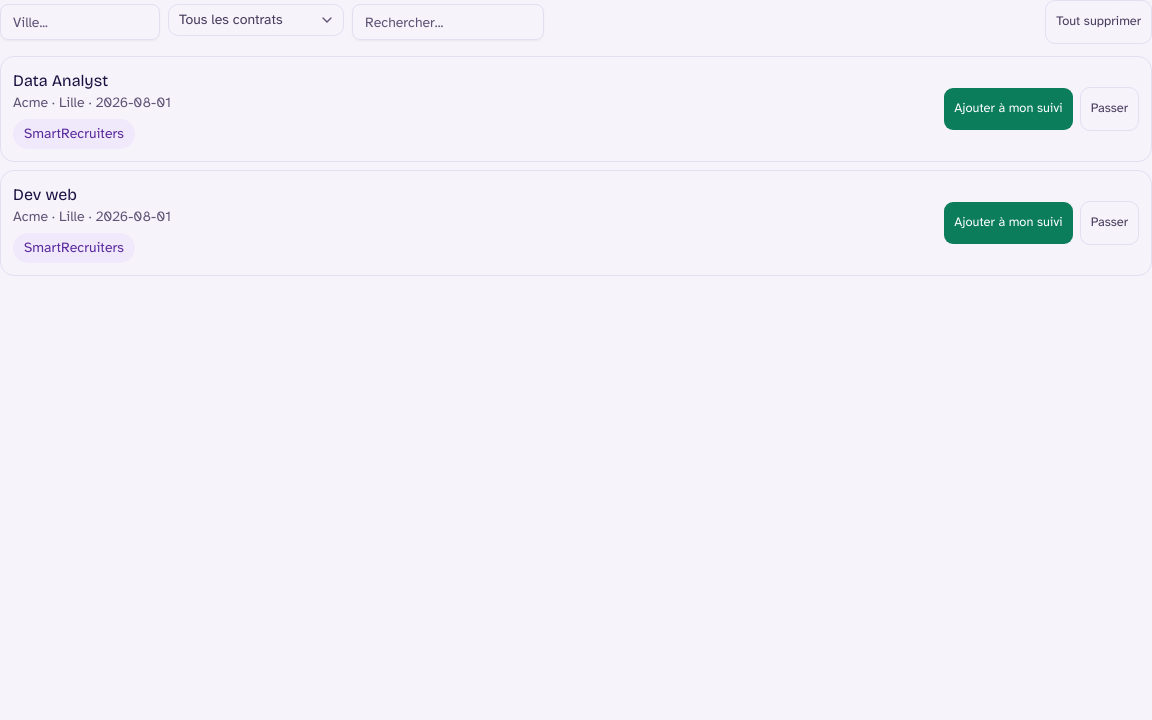
Test: ReviewQueueManager — tout supprimer (relancer une campagne avec de nouveaux filtres) › deletes every currently listed offer on confirmation and clears the queue
This screenshot has width=1152, height=720.
Click the button "Tout supprimer" at {"x": 1099, "y": 22}, box [1045,0,1151,44]
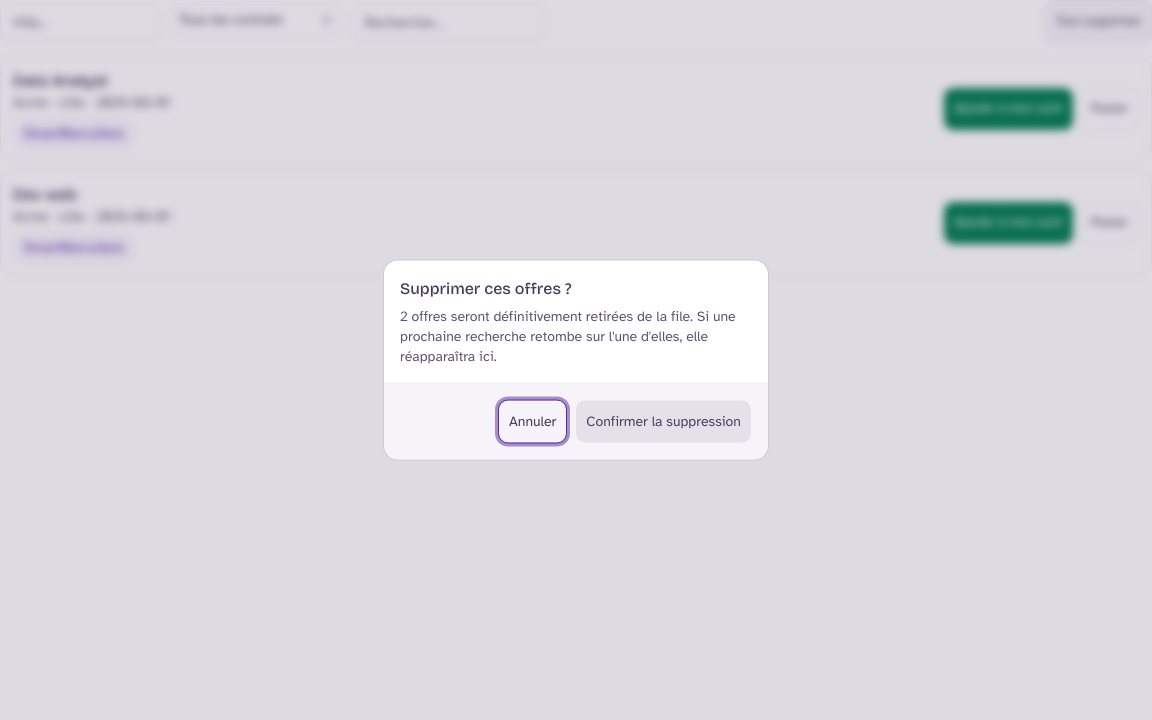
Click the button "Confirmer la suppression" at {"x": 664, "y": 422}, box [575,400,752,444]
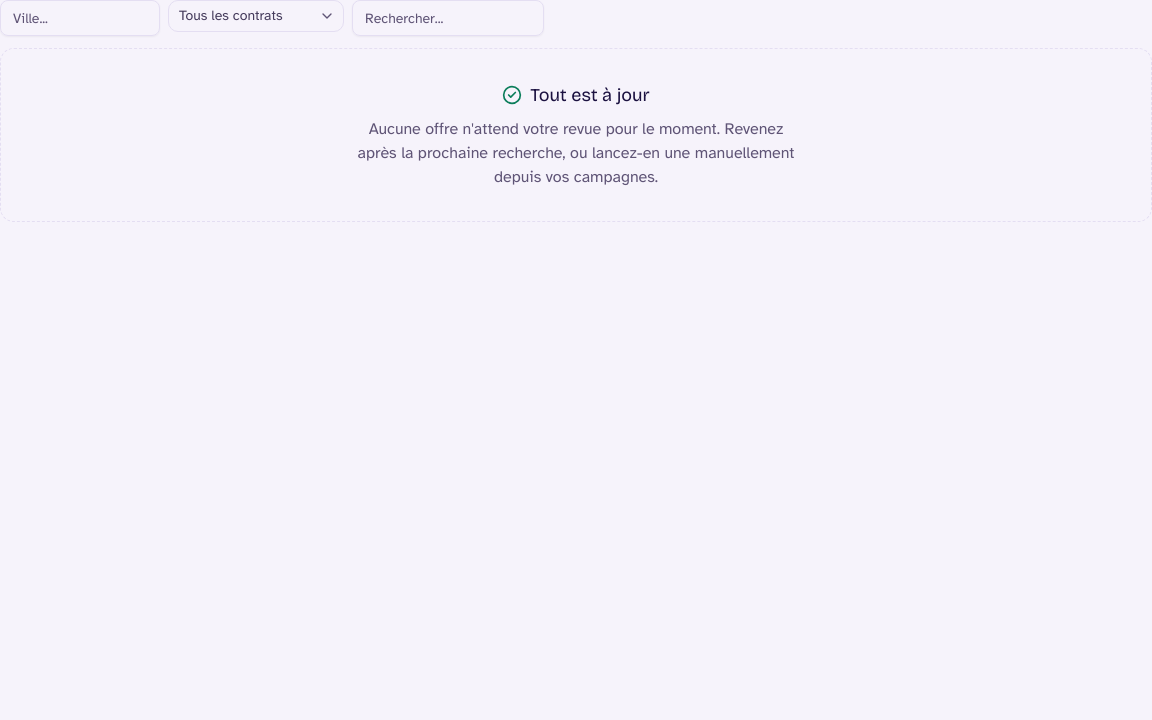
Now the element with test id "review-queue-empty-state" is shown, box [0,48,1151,222]
